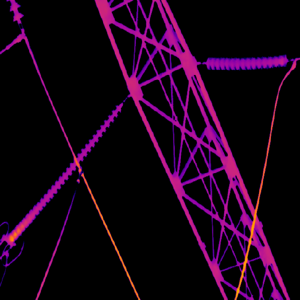insulator: (6, 101, 124, 244), (204, 51, 288, 72)
